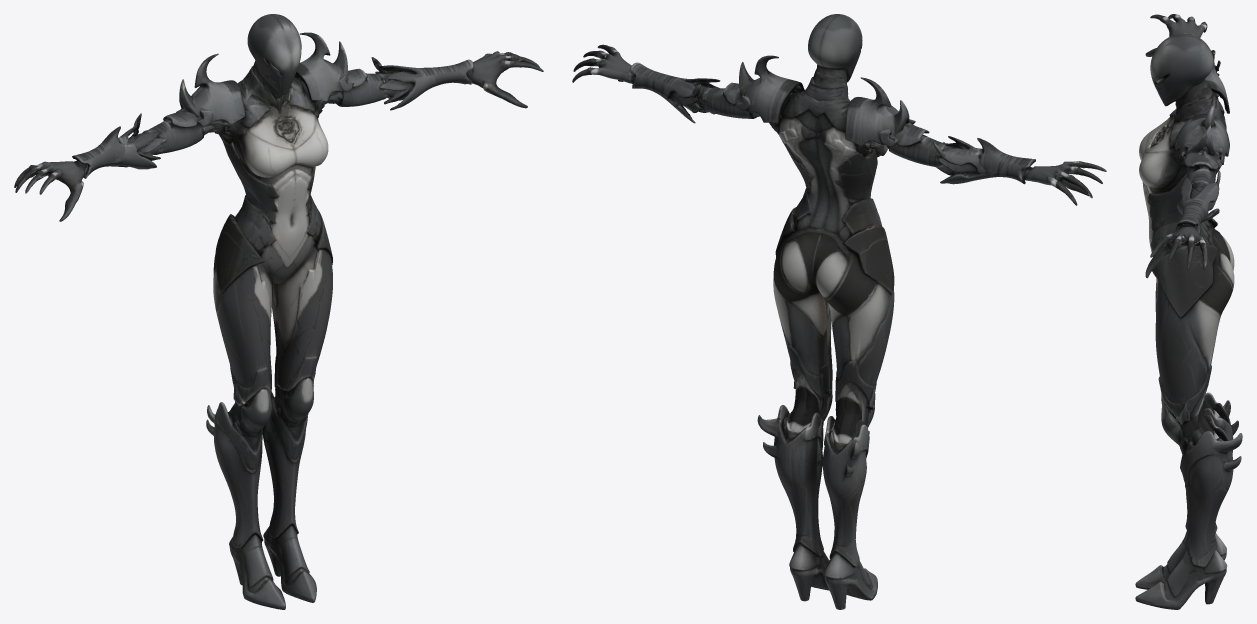
Rendered from Female_Cyber_Stalker.glb.
The picture shows the model from 3 angles, left to right: view 1: azimuth 30°, elevation 25°; view 2: azimuth 150°, elevation 25°; view 3: azimuth 270°, elevation 25°; orthographic projection. The views are drawn at different scales.
Visible parts, largest first — view 1: Mesh_0; view 2: Mesh_0; view 3: Mesh_0.
Part boxes in pixels (<box>): Mesh_0: <box>14,14,543,609</box>; Mesh_0: <box>572,14,1106,609</box>; Mesh_0: <box>1135,14,1242,609</box>.
Bounding box in the file's own units: 1.79 × 1.9 × 0.33.
1 material, 1 textured.
